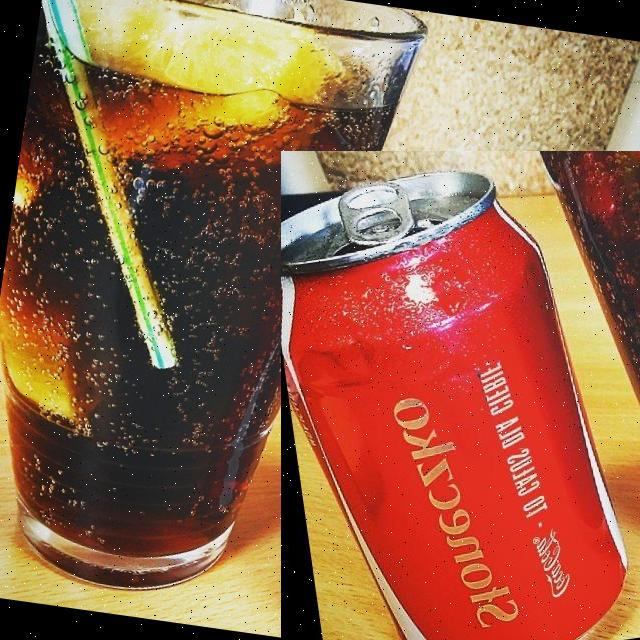coca-cola: (281, 151, 640, 640)
